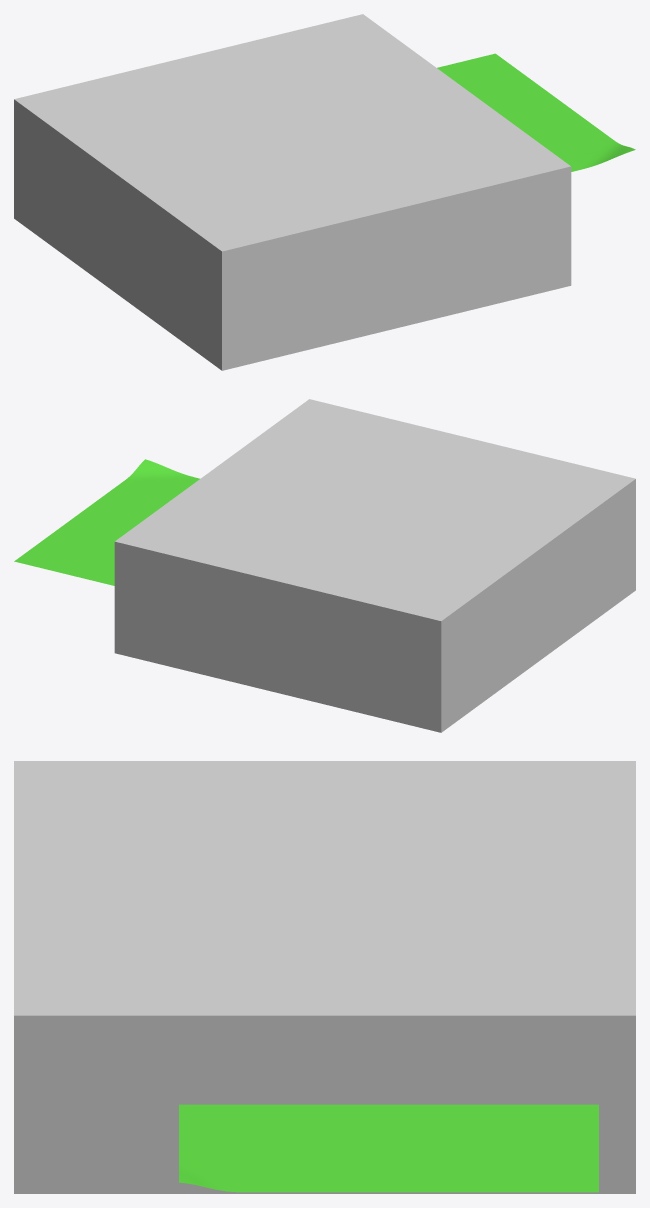
Rendered from tile_100_100.glb.
3 renders of one model, top to bottom at view 1: azimuth 30°, elevation 25°; view 2: azimuth 150°, elevation 25°; view 3: azimuth 270°, elevation 25°, orthographic. The views are drawn at different scales.
Parts seen in each view (by area): view 1: GrassVolume_2, tile_100_100; view 2: GrassVolume_2, tile_100_100; view 3: GrassVolume_2, tile_100_100.
Part boxes in pixels (box(x1,y1,x2,y2)): GrassVolume_2: box(14, 14, 571, 370); tile_100_100: box(437, 53, 635, 171); GrassVolume_2: box(114, 399, 635, 732); tile_100_100: box(14, 459, 199, 585); GrassVolume_2: box(14, 761, 635, 1193); tile_100_100: box(179, 1104, 598, 1192).
Size of the model in its own units: 193 by 46.89 by 148.
